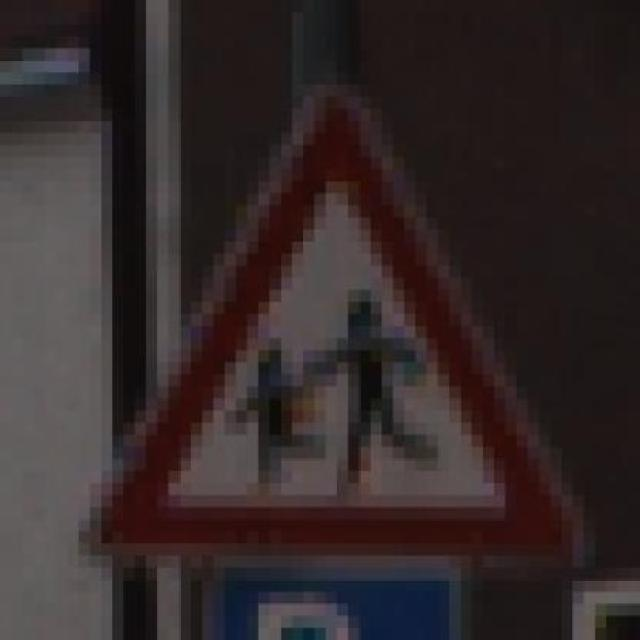Beware of children: (55, 85, 596, 580)
